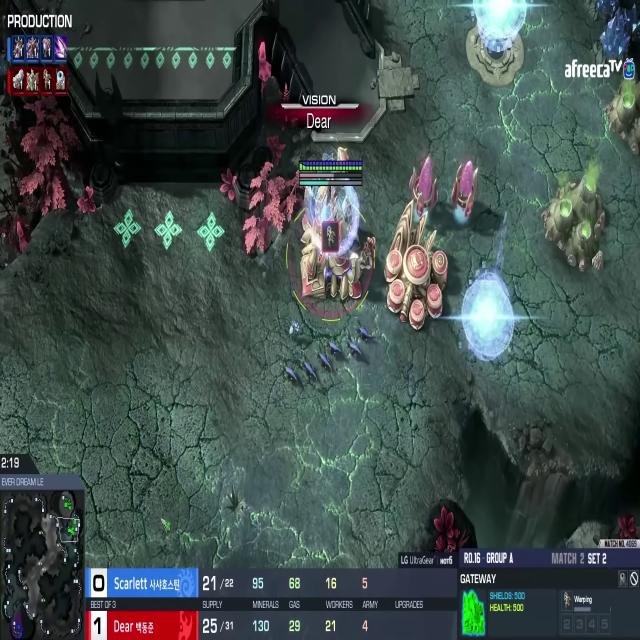zealot: (356, 226, 379, 274)
zergling: (297, 344, 321, 388), (353, 312, 375, 346), (344, 328, 364, 364), (324, 332, 348, 361), (314, 348, 338, 376), (281, 357, 301, 388)
